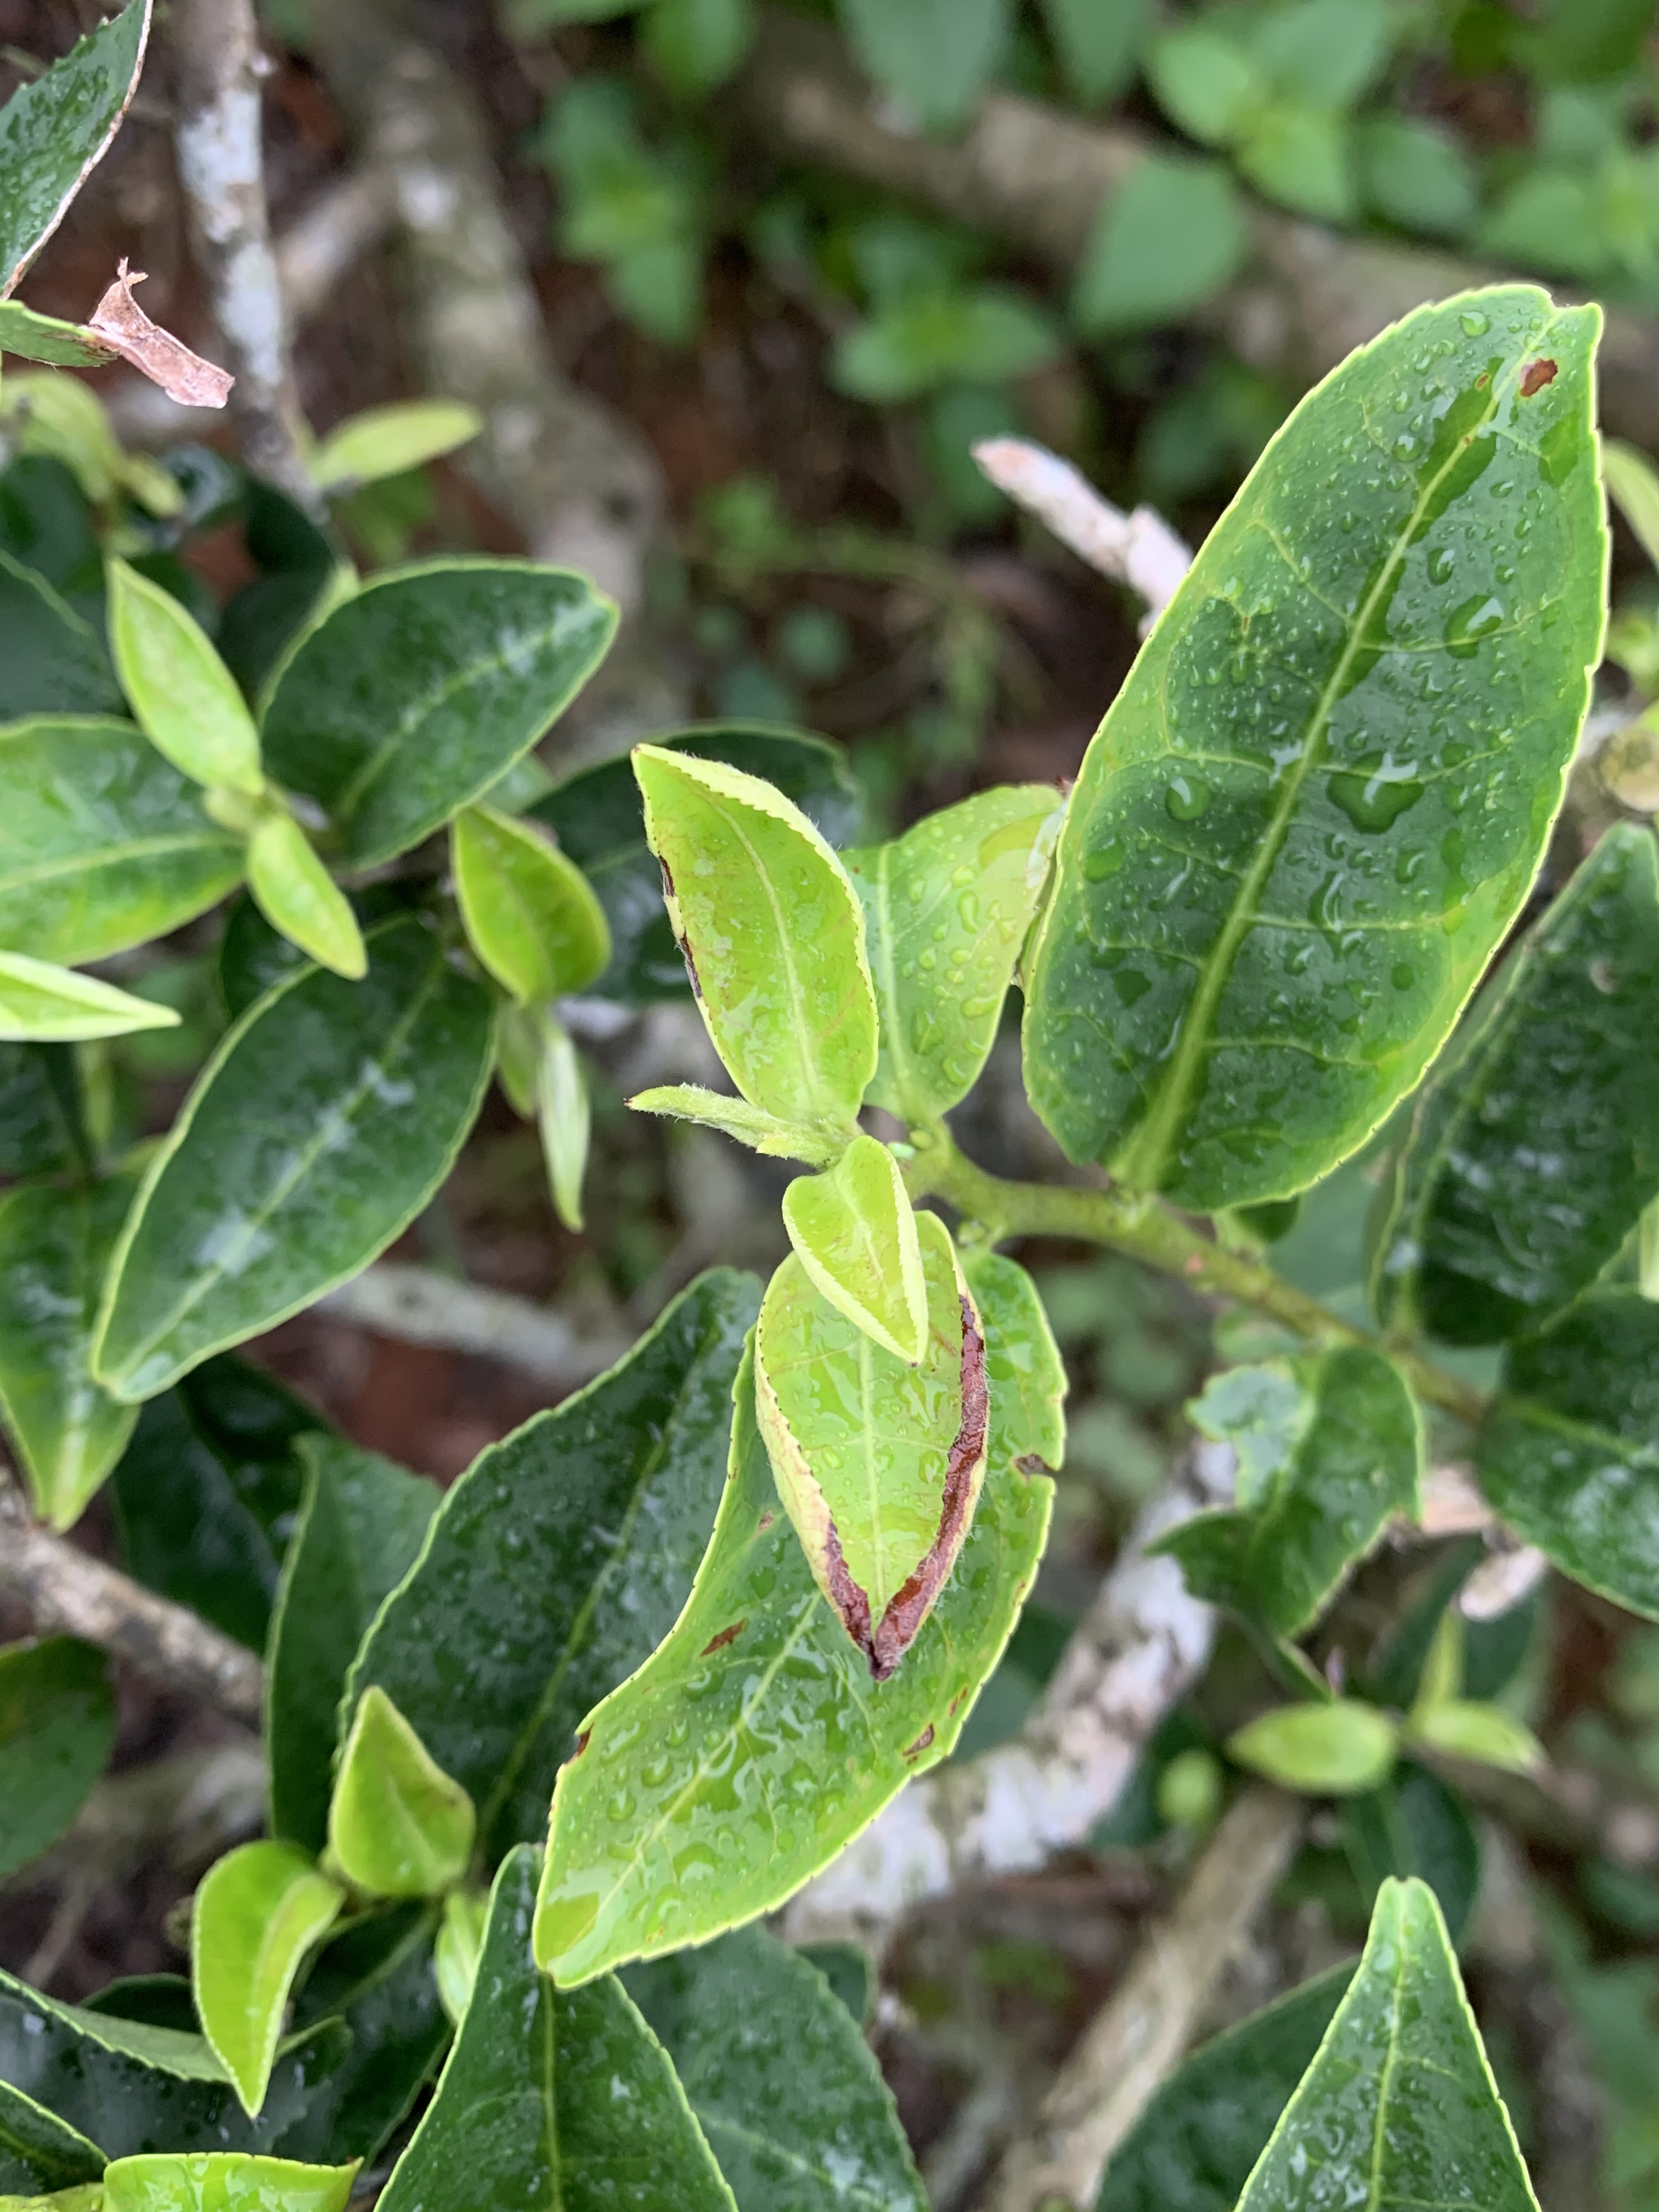miner: (1018, 312, 1603, 1141)
